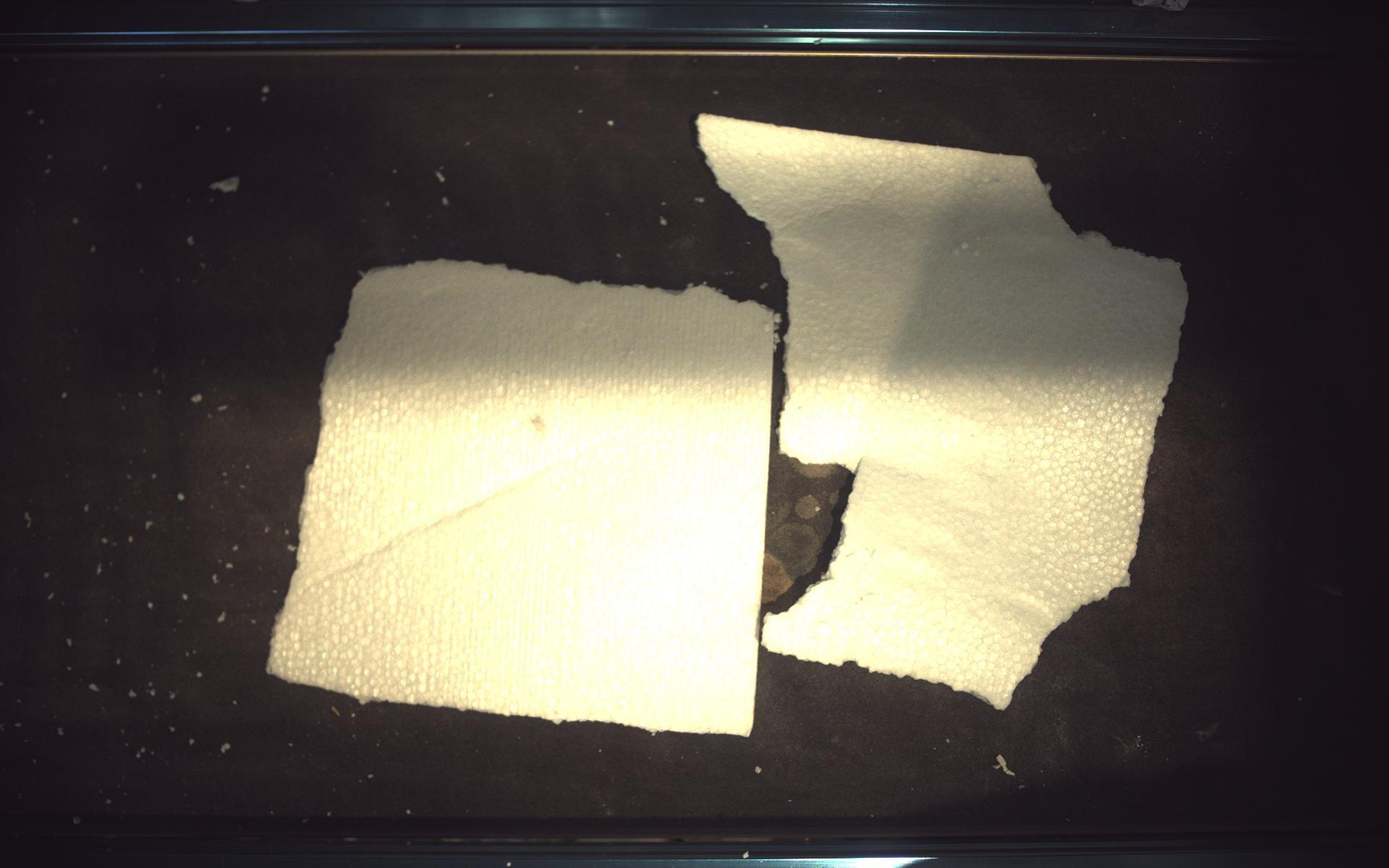foam: (699, 114, 1189, 709), (268, 262, 776, 736)
